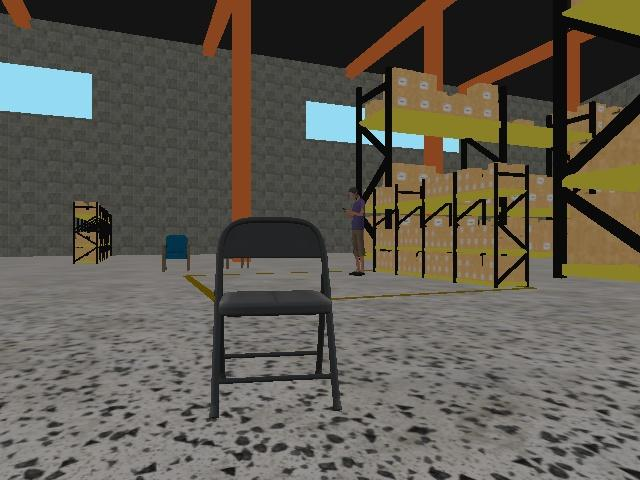chair: (209, 216, 341, 418), (162, 235, 191, 272)
person: (343, 187, 365, 277)
